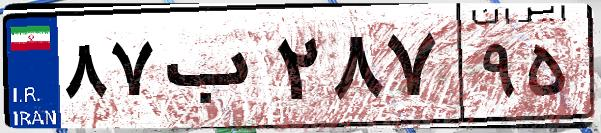2: (270, 28, 330, 110)
5: (525, 38, 570, 115)
7: (385, 28, 445, 110), (110, 28, 158, 98)
8: (330, 28, 385, 110), (57, 26, 110, 100)
9: (475, 38, 525, 113)
ب: (158, 20, 270, 120)
